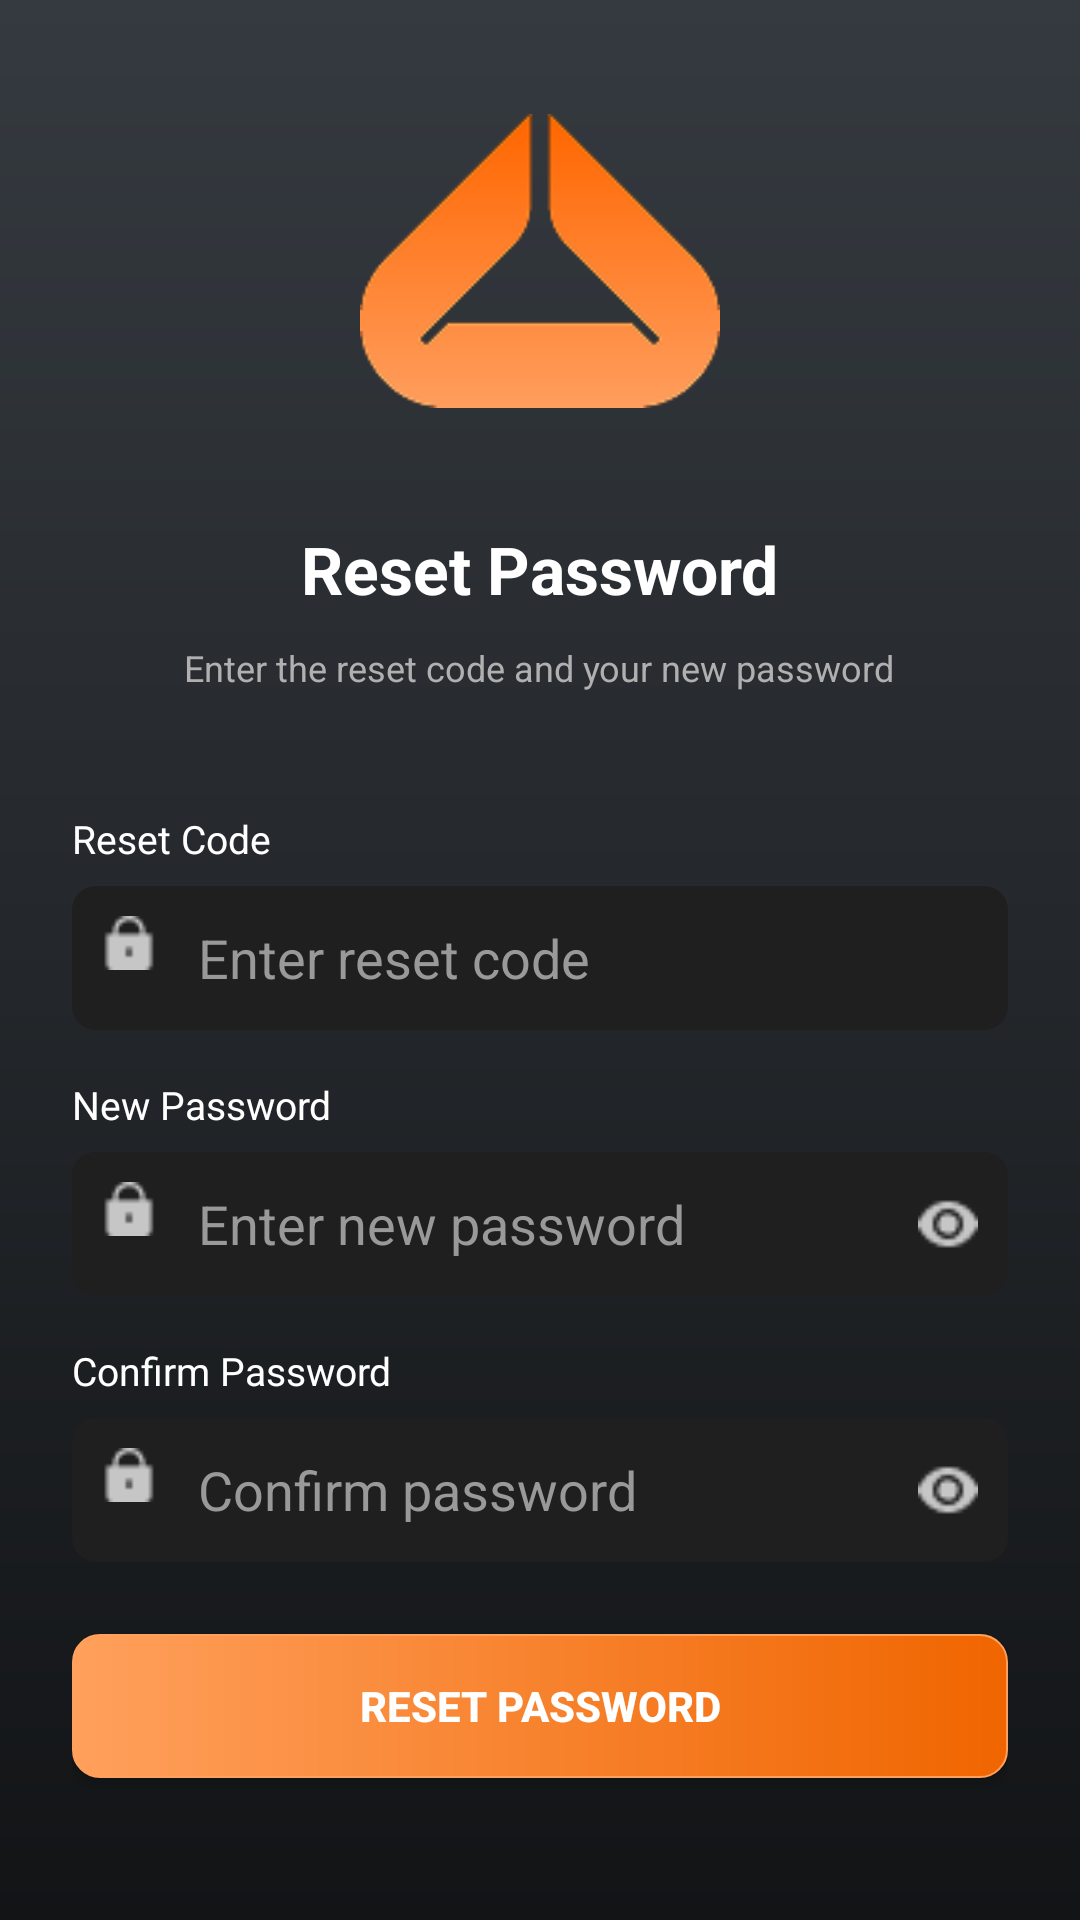

Icons on this 1080px x 1920px Android screen, each with its box as [left=x1, top=y1, right=x2, bottom=y2]:
eye: [left=918, top=1200, right=978, bottom=1248], [left=918, top=1466, right=978, bottom=1514]
lock: [left=104, top=916, right=154, bottom=970], [left=104, top=1182, right=154, bottom=1236], [left=104, top=1448, right=154, bottom=1502]
